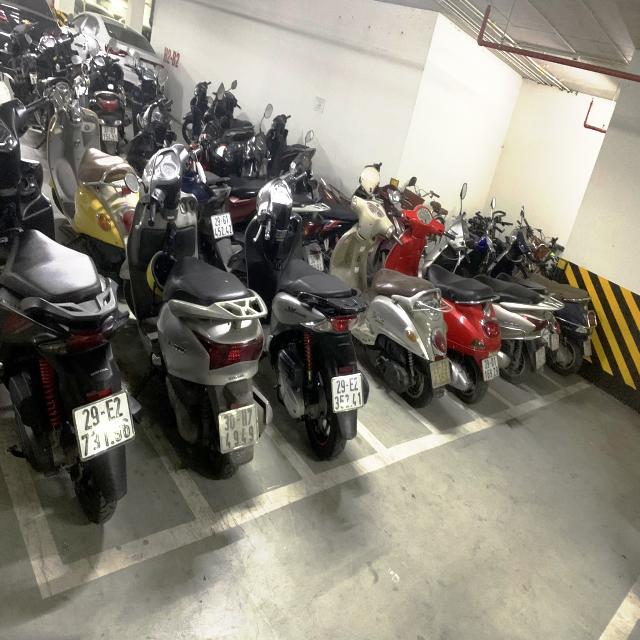license_plate: (71, 387, 138, 467), (215, 400, 263, 460), (330, 371, 366, 417), (429, 356, 454, 393), (209, 210, 237, 243), (481, 354, 502, 385), (101, 124, 120, 145)
